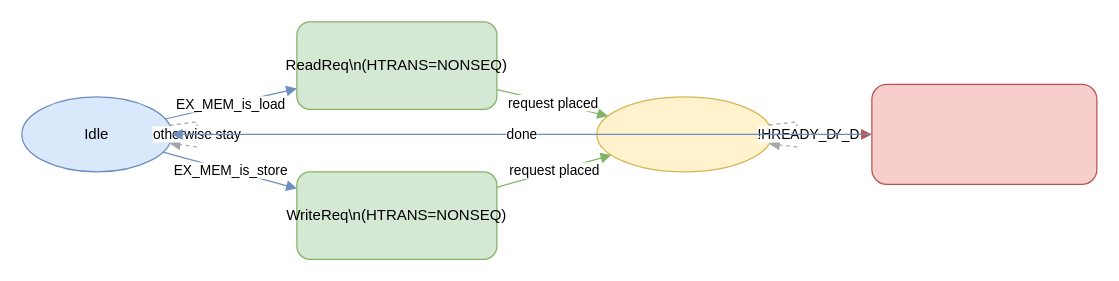
This 1119x281 diagram has some shape labels left out. Each missing label, with the centre of its shape:
Commit\n(mem_wb_* update): the point at 984,133
WaitReady: the point at 684,134
